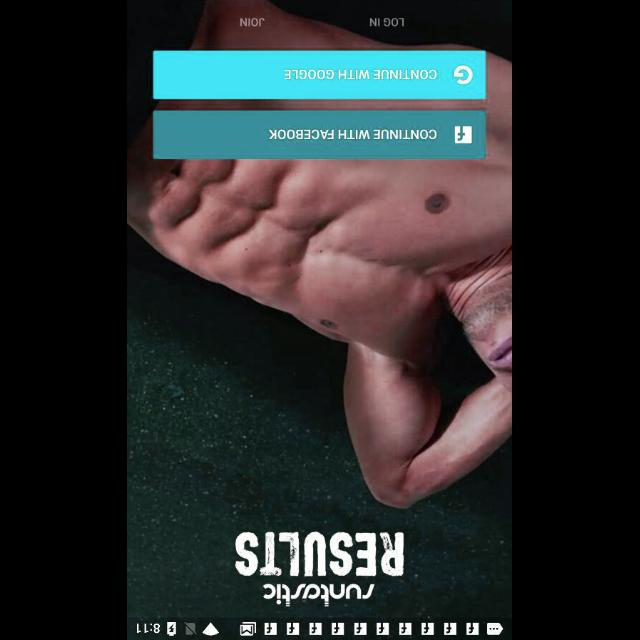backgroundimage: (128, 1, 512, 620)
image: (236, 530, 404, 608)
text: (370, 18, 404, 27), (240, 17, 266, 27)
textbutton: (154, 50, 486, 100), (154, 110, 486, 158)
uppertaskbar: (128, 620, 512, 638)
